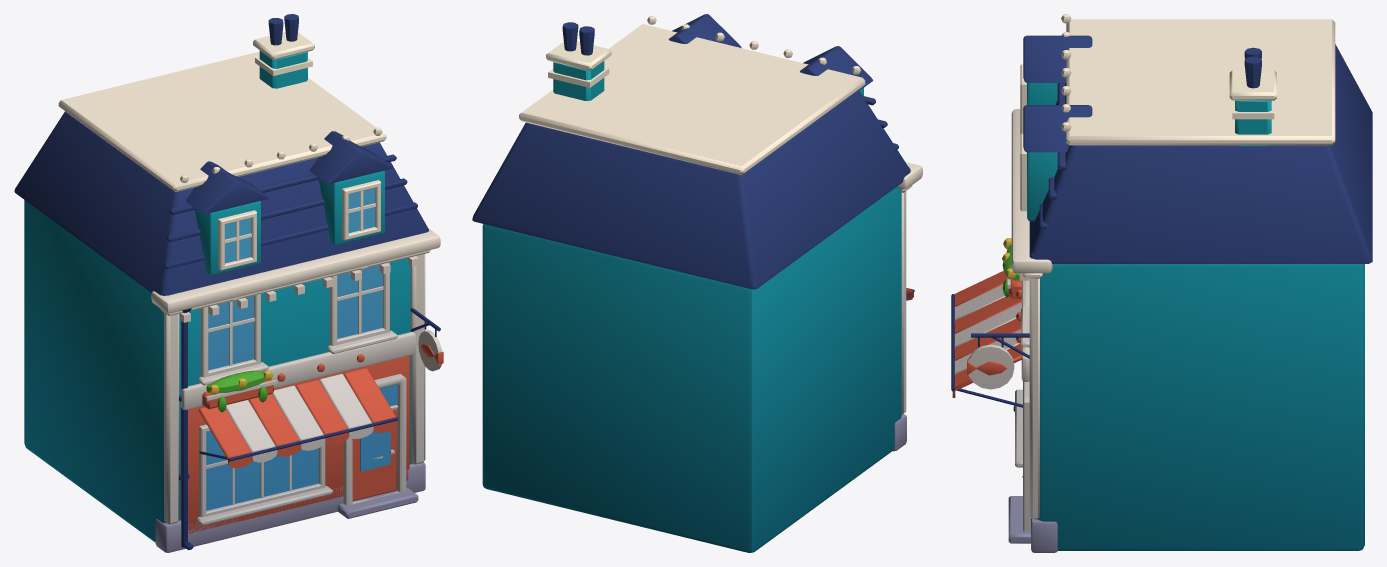
Rendered from house_c.glb.
3 views of the same model, side by side, from view 1: azimuth 30°, elevation 25°; view 2: azimuth 150°, elevation 25°; view 3: azimuth 270°, elevation 25° (orthographic). The views are drawn at different scales.
Parts seen in each view (by area): view 1: house_c; view 2: house_c; view 3: house_c.
Part boxes in pixels (box(x1,y1,x2,y2)): house_c: box(14, 14, 443, 552); house_c: box(472, 14, 922, 552); house_c: box(951, 14, 1372, 552).
Size of the model in its own units: 5.54 by 7.95 by 6.42.
